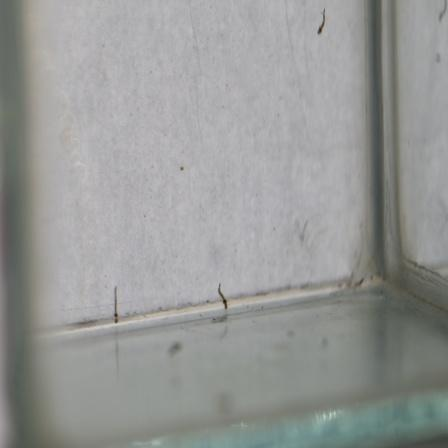Jentik-Nyamuk: (312, 6, 332, 38), (214, 281, 232, 314), (109, 282, 122, 327)
